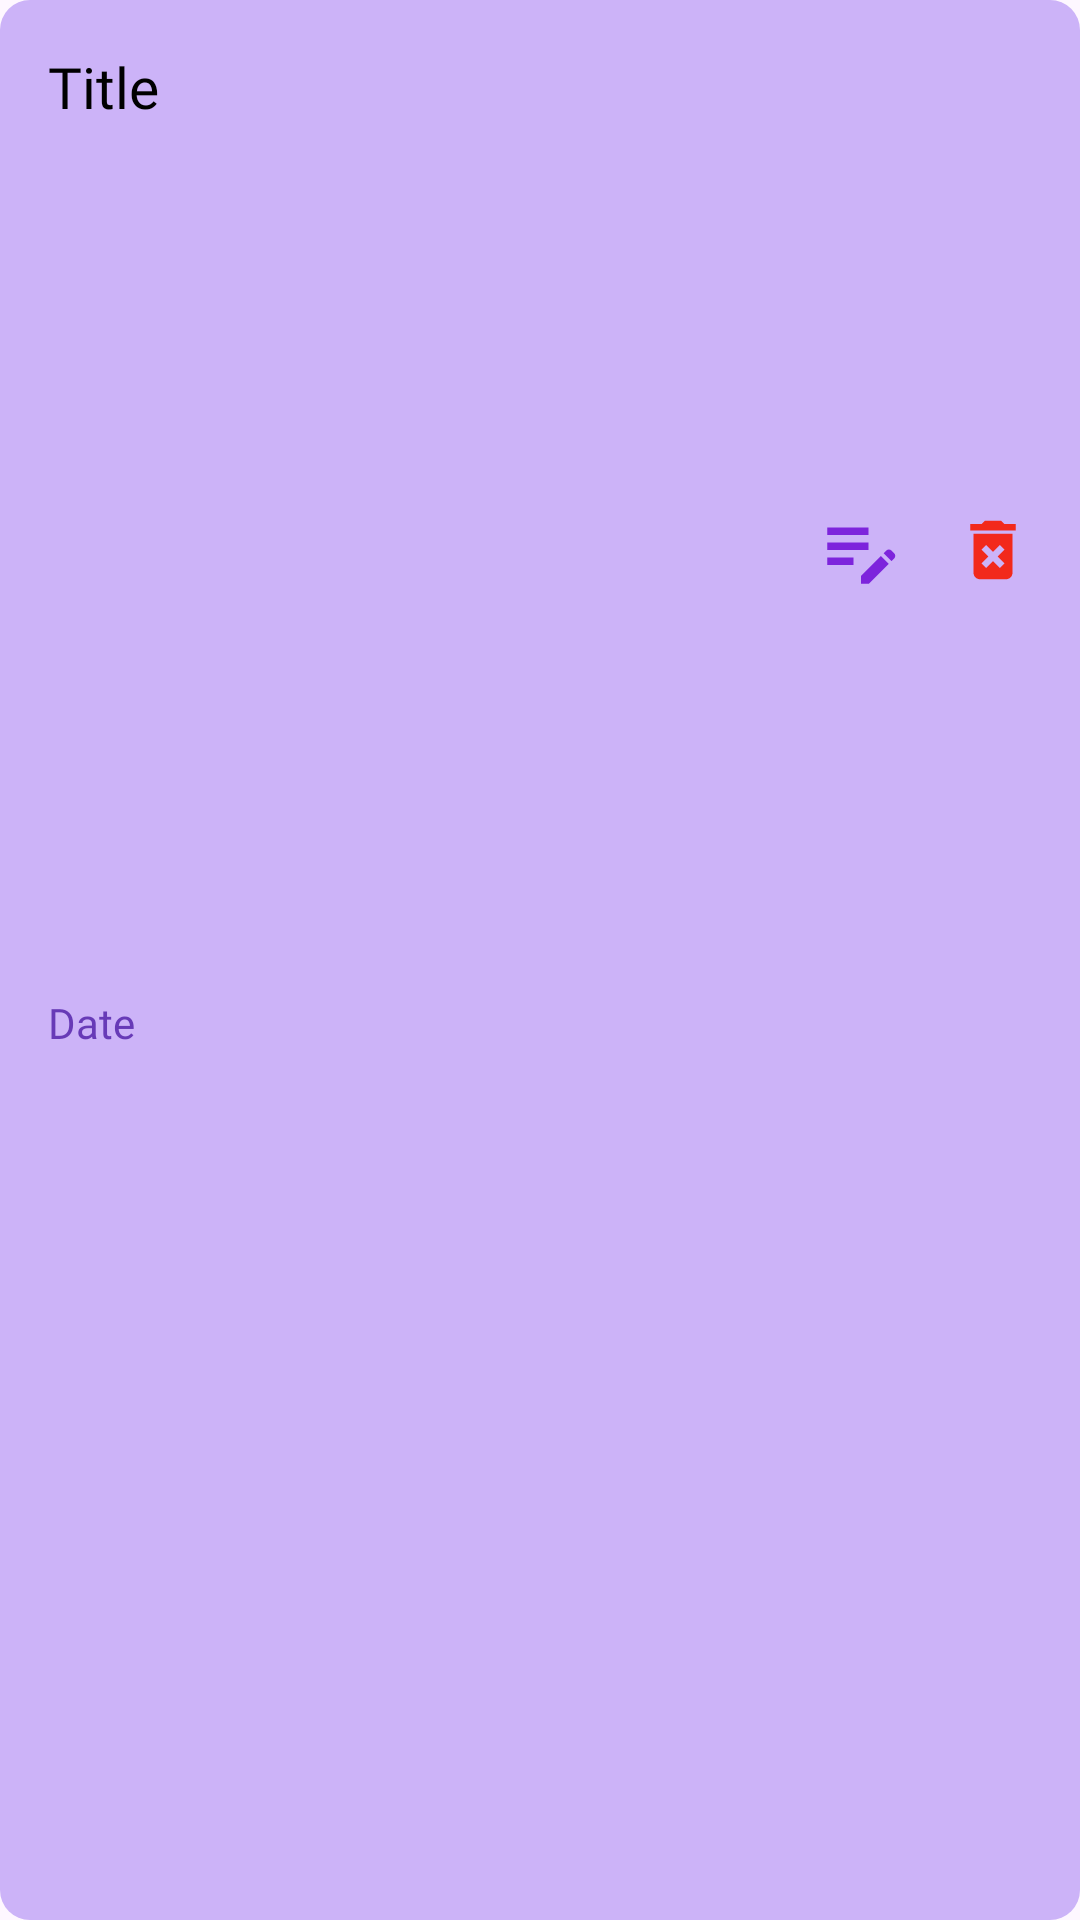

Icons on this 1080px×1920px Android screen, each with its box as (x1, y1, x2, y2):
delete: (970, 520, 1016, 580)
edit note: (827, 527, 896, 584)
